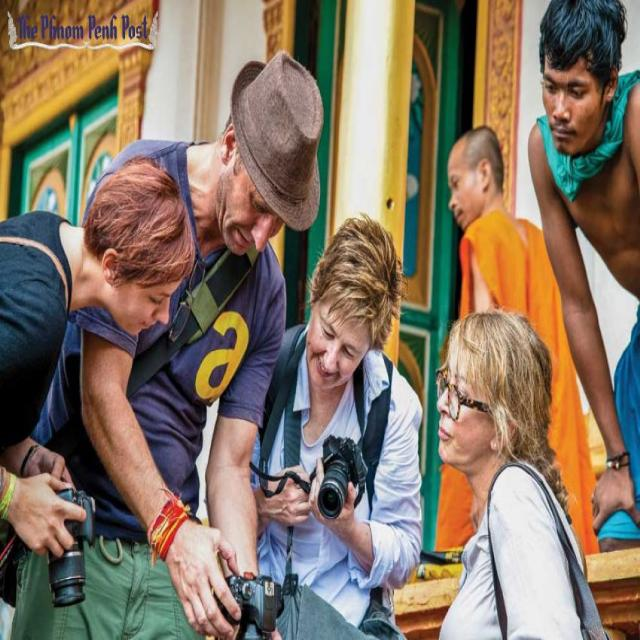body: (1, 41, 328, 639), (0, 151, 197, 562), (247, 210, 426, 640), (433, 122, 601, 561), (526, 0, 639, 556), (435, 309, 612, 640)
